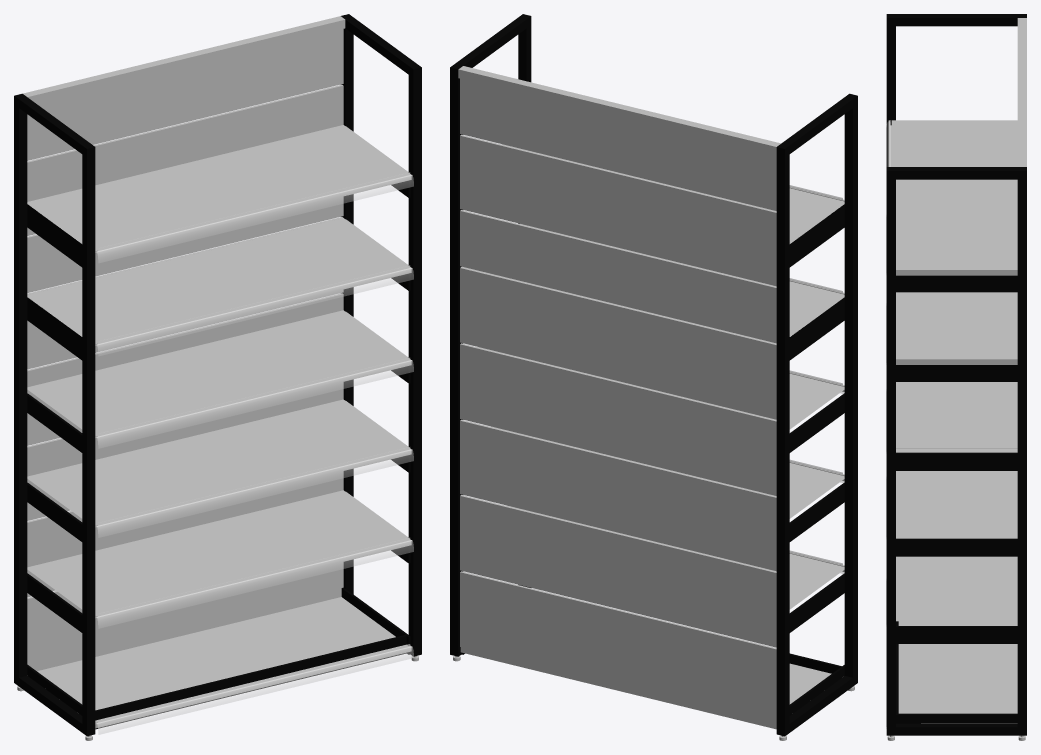
Rendered from SM_配餐区_米油架_002.fbx.
The picture shows the model from 3 angles, left to right: view 1: azimuth 30°, elevation 25°; view 2: azimuth 150°, elevation 25°; view 3: azimuth 270°, elevation 25°; orthographic projection. The views are drawn at different scales.
Visible parts, largest first — view 1: SM_配餐区_米油架_002; view 2: SM_配餐区_米油架_002; view 3: SM_配餐区_米油架_002.
Part boxes in pixels (x1=…): SM_配餐区_米油架_002: x1=14, y1=14, x2=421, y2=740; SM_配餐区_米油架_002: x1=450, y1=14, x2=857, y2=740; SM_配餐区_米油架_002: x1=886, y1=14, x2=1026, y2=740.
Size of the model in its own units: 1193 by 2020 by 453.
